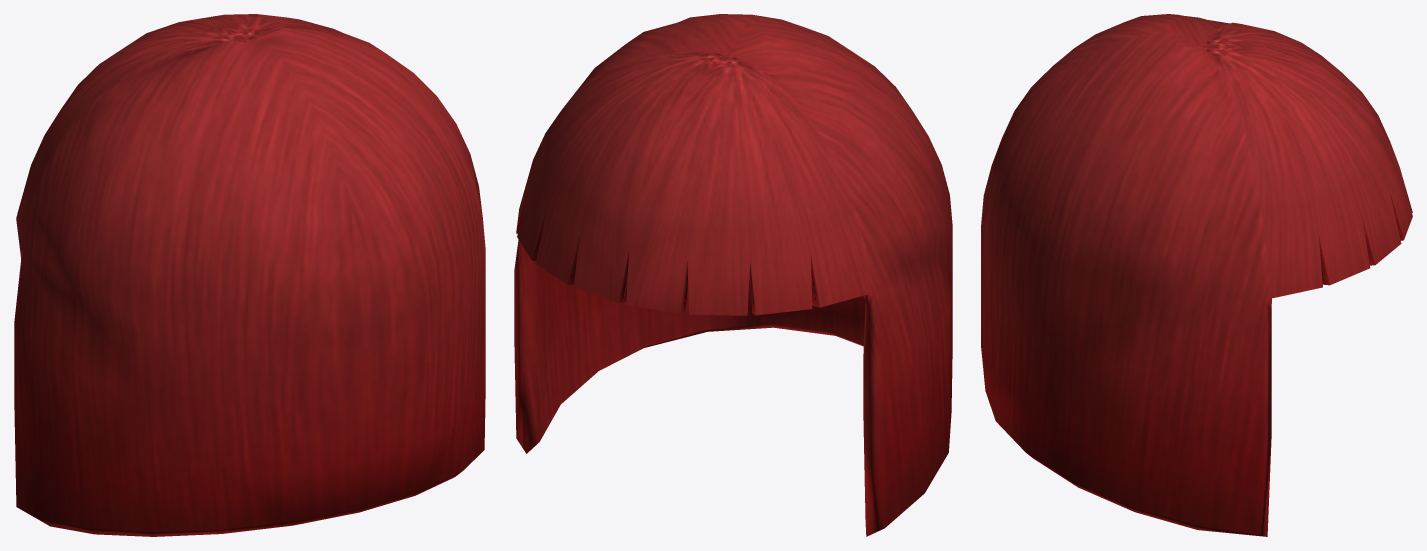
3 renders of one model, left to right at view 1: azimuth 30°, elevation 25°; view 2: azimuth 150°, elevation 25°; view 3: azimuth 270°, elevation 25°, orthographic. The views are drawn at different scales.
Visible parts, largest first — view 1: geometry_0; view 2: geometry_0; view 3: geometry_0.
Part boxes in pixels (x1=…): geometry_0: x1=14, y1=14, x2=485, y2=536; geometry_0: x1=514, y1=14, x2=952, y2=536; geometry_0: x1=981, y1=14, x2=1412, y2=536.
Bounding box in the file's own units: 1.36 × 1.46 × 1.34.
1 material, 1 textured.
